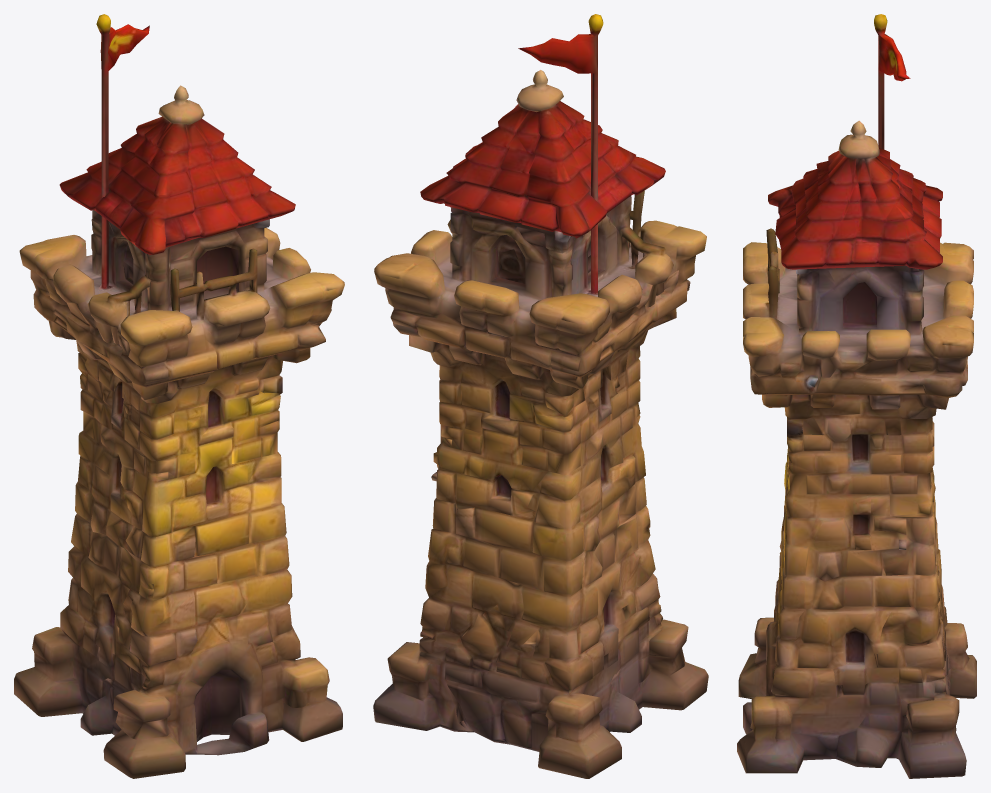
The picture shows the model from 3 angles, left to right: view 1: azimuth 30°, elevation 25°; view 2: azimuth 150°, elevation 25°; view 3: azimuth 270°, elevation 25°; orthographic projection. The views are drawn at different scales.
Parts seen in each view (by area): view 1: tripo_node_cce3f52e-9097-484c-b6b3-ed63c7c36ee2; view 2: tripo_node_cce3f52e-9097-484c-b6b3-ed63c7c36ee2; view 3: tripo_node_cce3f52e-9097-484c-b6b3-ed63c7c36ee2.
Part boxes in pixels (left/top/right/bottom): tripo_node_cce3f52e-9097-484c-b6b3-ed63c7c36ee2: left=14, top=14, right=344, bottom=778; tripo_node_cce3f52e-9097-484c-b6b3-ed63c7c36ee2: left=373, top=14, right=708, bottom=778; tripo_node_cce3f52e-9097-484c-b6b3-ed63c7c36ee2: left=737, top=14, right=976, bottom=778.
Bounding box in the file's own units: 0.3386 × 1 × 0.319.
1 material, 1 textured.
